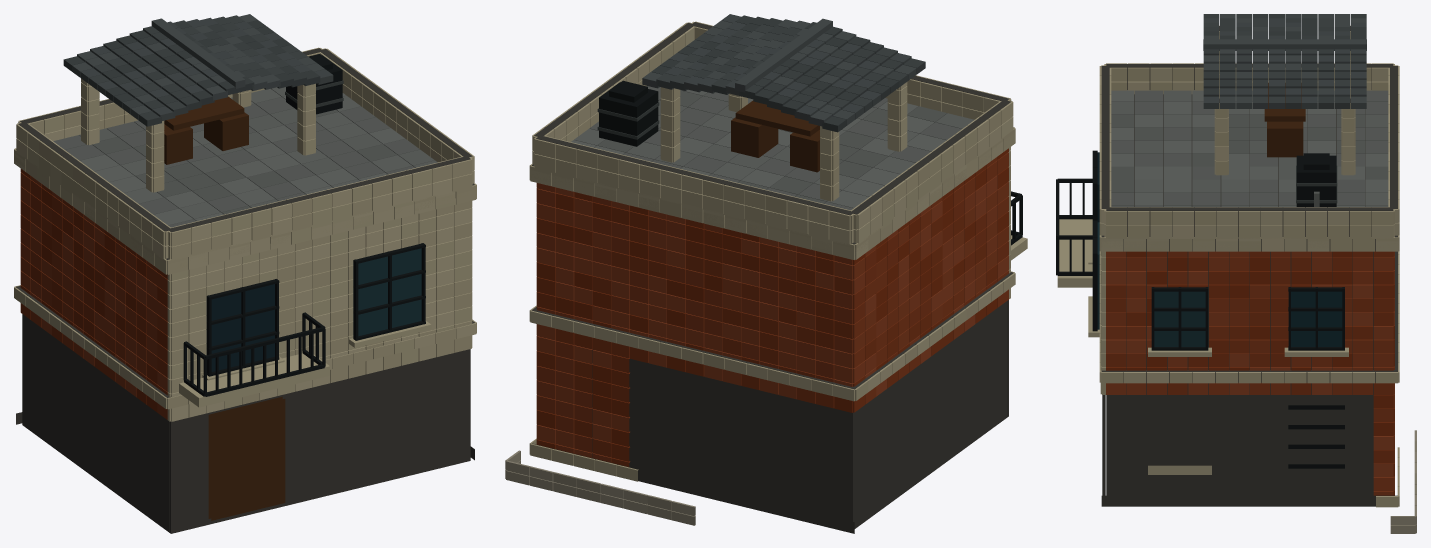
File: SM_StreetFrontage_043.fbx
3 renders of one model, left to right at view 1: azimuth 30°, elevation 25°; view 2: azimuth 150°, elevation 25°; view 3: azimuth 270°, elevation 25°, orthographic. The views are drawn at different scales.
Visible parts, largest first — view 1: SM_StreetFrontage_043; view 2: SM_StreetFrontage_043; view 3: SM_StreetFrontage_043.
Boxes of the visible parts, x1=… form: SM_StreetFrontage_043: x1=14, y1=14, x2=476, y2=533; SM_StreetFrontage_043: x1=505, y1=14, x2=1027, y2=533; SM_StreetFrontage_043: x1=1056, y1=14, x2=1416, y2=533.
Bounding box in the file's own units: 7.66 × 7.53 × 9.14.
